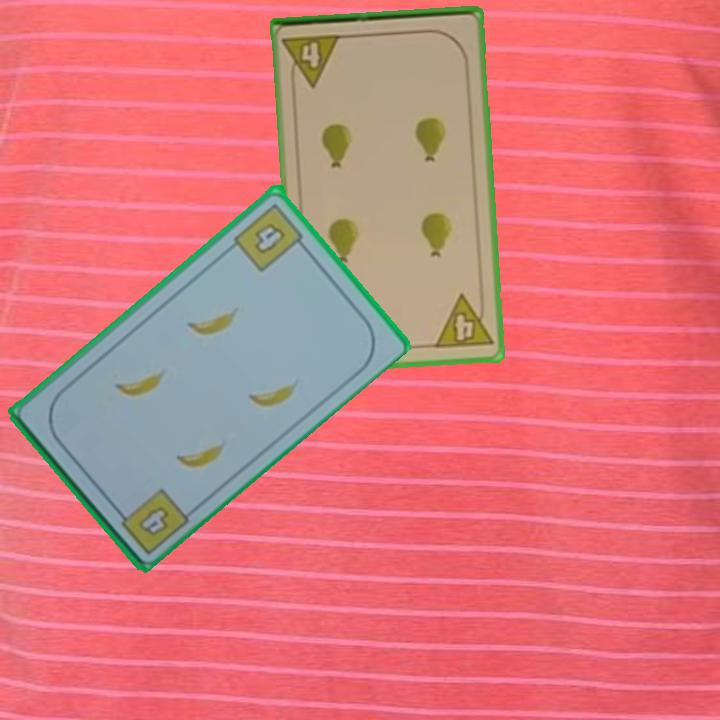4b: (230, 198, 310, 274), (110, 484, 192, 558)
4p: (431, 290, 496, 352), (279, 31, 344, 90)
